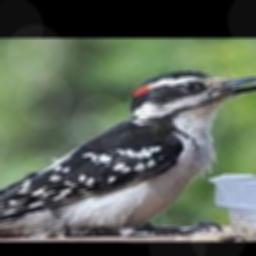Woodpecker: (0, 71, 256, 238)
